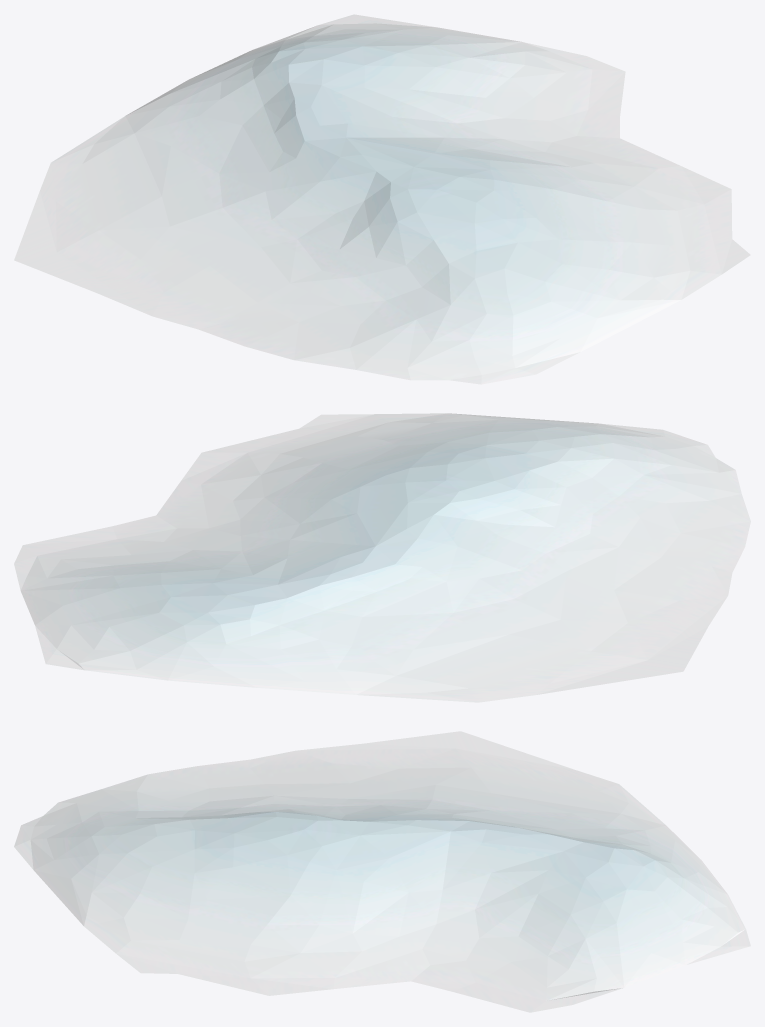
3 renders of one model, top to bottom at view 1: azimuth 30°, elevation 25°; view 2: azimuth 150°, elevation 25°; view 3: azimuth 270°, elevation 25°, orthographic. The views are drawn at different scales.
Visible parts, largest first — view 1: SnowyHillFlat; view 2: SnowyHillFlat; view 3: SnowyHillFlat.
Boxes of the visible parts, bbox=[...] form: SnowyHillFlat: bbox=[14, 14, 750, 384]; SnowyHillFlat: bbox=[14, 413, 750, 702]; SnowyHillFlat: bbox=[14, 731, 750, 1012].
Bounding box in the file's own units: 182 × 14.23 × 200.
1 material, 1 textured.
